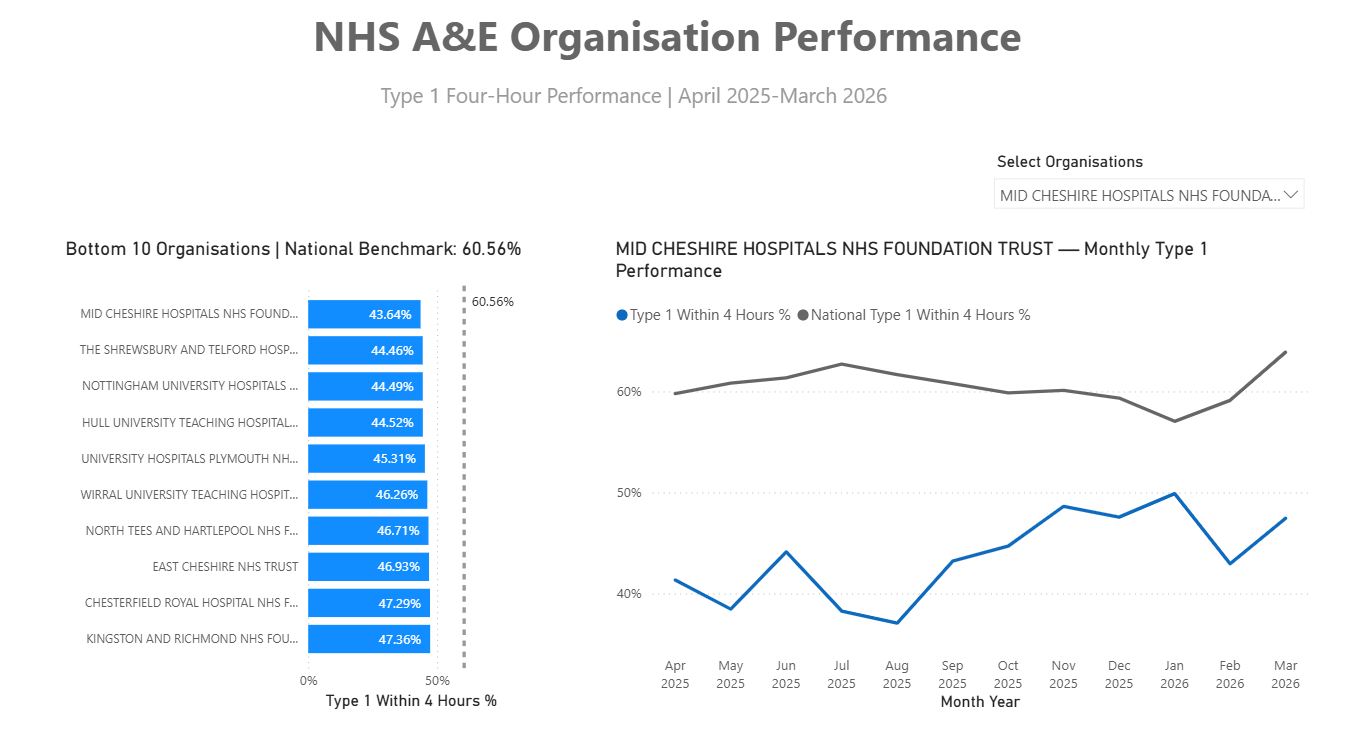

The page's visual inventory and layout, read from the dashboard file:
{"tool":"powerbi","page":{"name":"Organisation Performance","canvas":[1280,720],"ordinal":1},"visuals":[{"type":"textbox","box":[309.4,11,909.8,67.3],"z":0},{"type":"textbox","box":[369.3,78.3,595.7,35.7],"z":1000},{"type":"clusteredBarChart","title":"Bottom 10 Organisations | National Benchmark: 60.56%","fields":{"Category":["DimOrganisation.org_name_standardised"],"Y":["FactAEPerformance.Type 1 Within 4 Hours %"]},"box":[86.2,224.3,426.8,430.9],"z":2000},{"type":"lineChart","fields":{"Category":["DimDate.Month Year"],"Y":["FactAEPerformance.Type 1 Within 4 Hours %","FactAEPerformance.National Type 1 Within 4 Hours %"]},"box":[581.3,224.3,637.4,430.9],"z":3000},{"type":"slicer","fields":{"Values":["DimOrganisation.org_name_standardised"]},"box":[917.8,142.3,300.4,62.7],"z":4000}]}

Visuals, with their boxes in screenshot pixels (x1, y1, x2, y2), scaled from the page's 1280x720 canvas onto the 1369x755 screenshot:
textbox: box=[331, 12, 1304, 82]
textbox: box=[395, 82, 1032, 120]
"Bottom 10 Organisations | National Benchmark: 60.56%" clusteredBarChart: box=[92, 235, 549, 687]
lineChart - DimDate.Month Year x FactAEPerformance.Type 1 Within 4 Hours %: box=[622, 235, 1303, 687]
slicer - DimOrganisation.org_name_standardised: box=[982, 149, 1303, 215]
